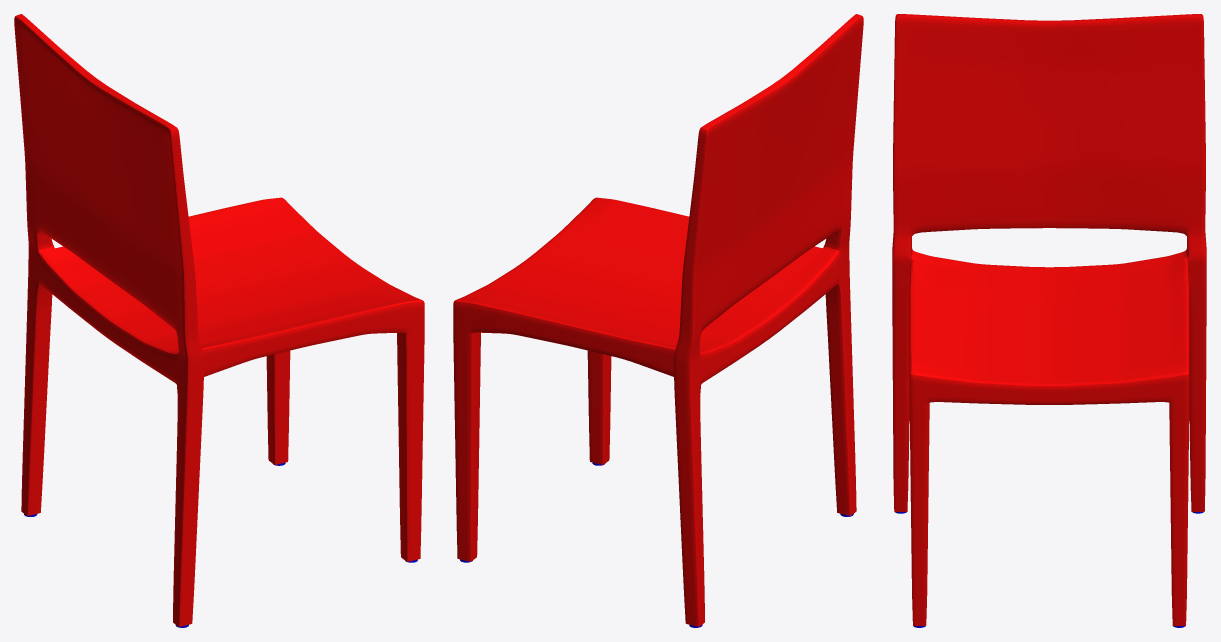
The model's file is HanzeChair.fbx.
The picture shows the model from 3 angles, left to right: view 1: azimuth 30°, elevation 25°; view 2: azimuth 150°, elevation 25°; view 3: azimuth 270°, elevation 25°; orthographic projection.
Parts seen in each view (by area): view 1: Cube.002; view 2: Cube.002; view 3: Cube.002.
Boxes of the visible parts, x1,y1,x2,y2 form: Cube.002: [14, 14, 424, 626]; Cube.002: [453, 14, 863, 626]; Cube.002: [892, 14, 1206, 625].
Bounding box in the file's own units: 74.05 × 70.58 × 128.
